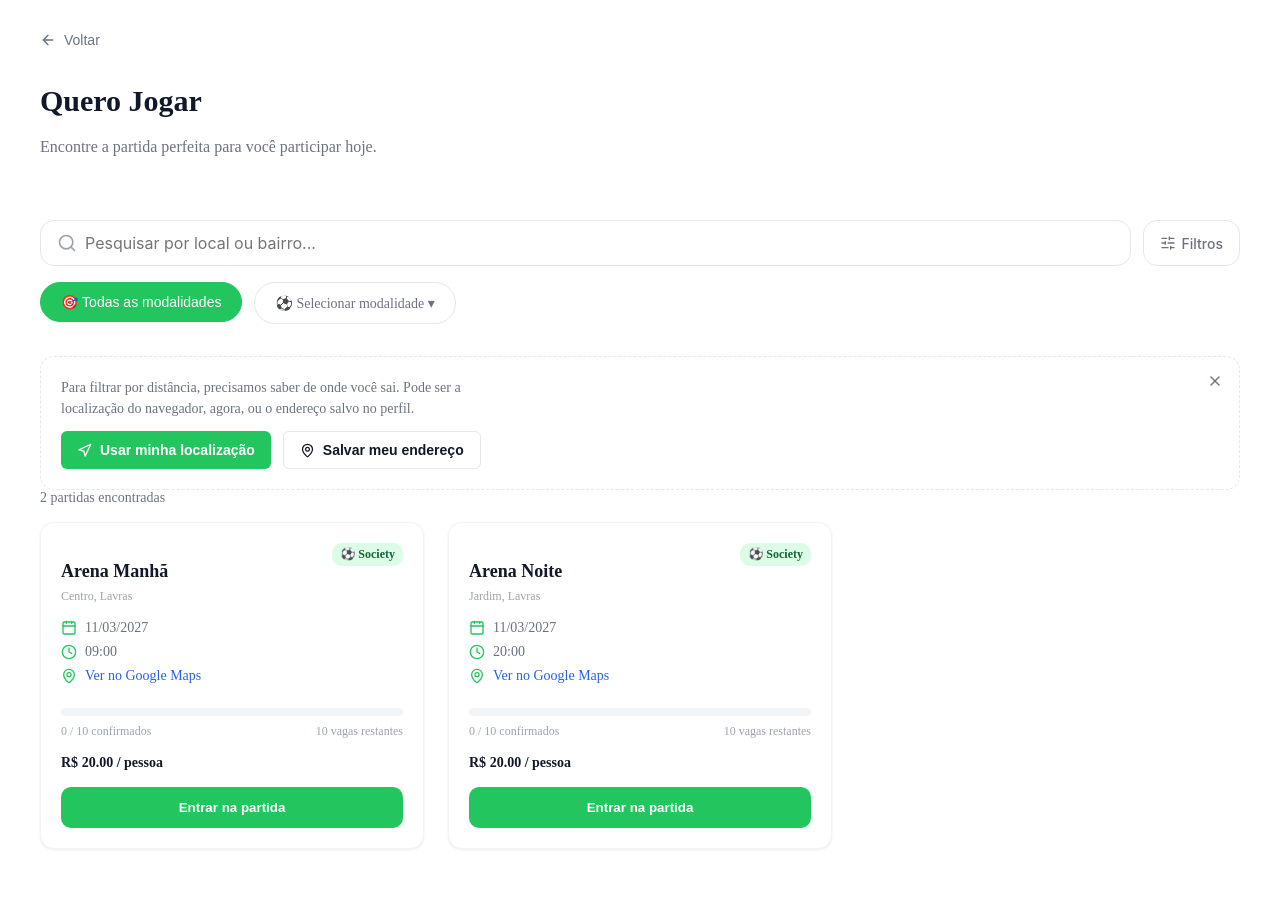
Test: QueroJogar — filtros aplicados sobre o que já veio › limpar filtros devolve a lista inteira
Click the button "Filtros". click: click(1191, 243)
box: [1143, 220, 1240, 266]
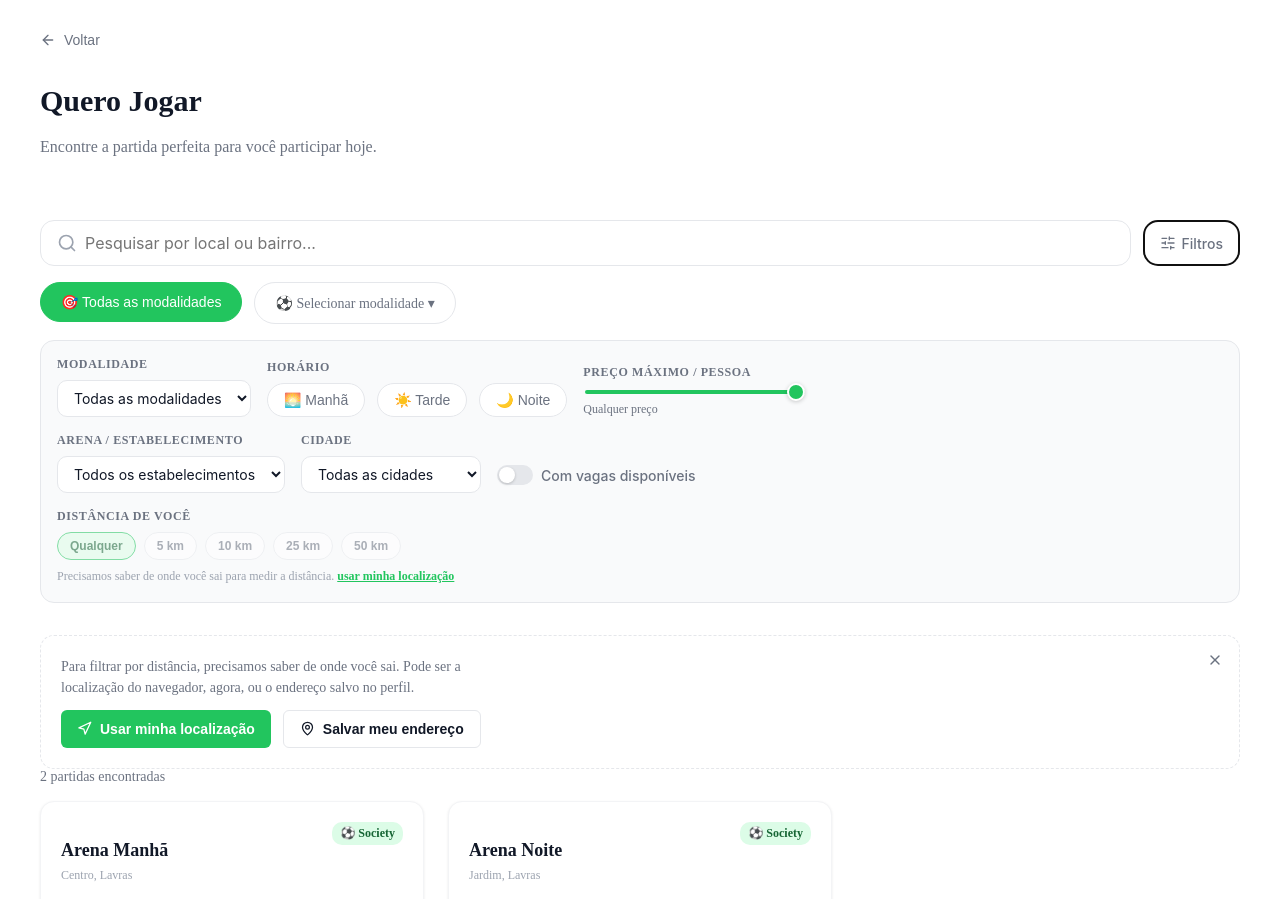
Click the button "🌙 Noite". click: click(523, 400)
box: [479, 383, 567, 417]
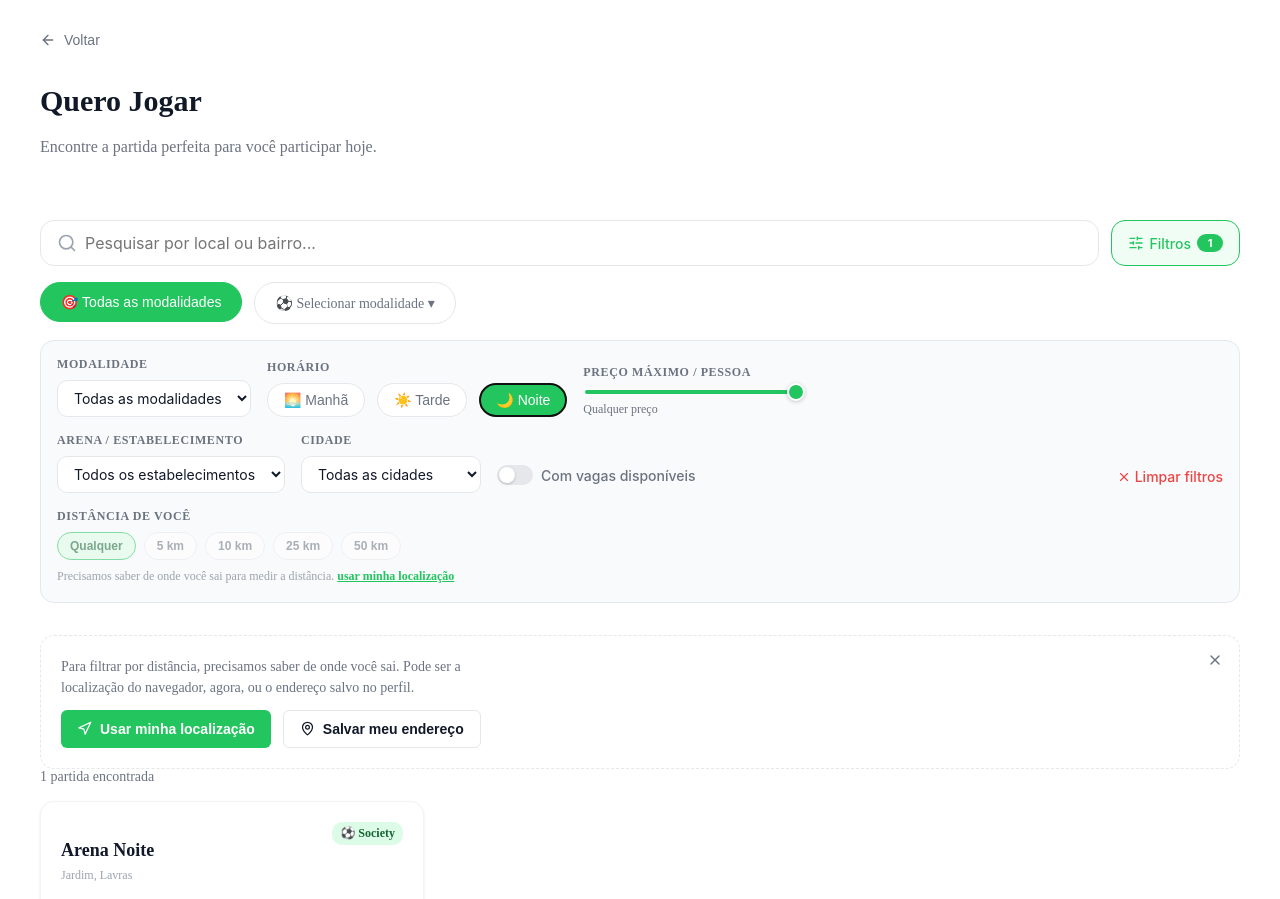
Expected: the text "1 partida encontrada" is shown, [40, 769, 154, 784]
Click the button "Limpar filtros". click: click(1170, 477)
box: [1117, 460, 1223, 493]
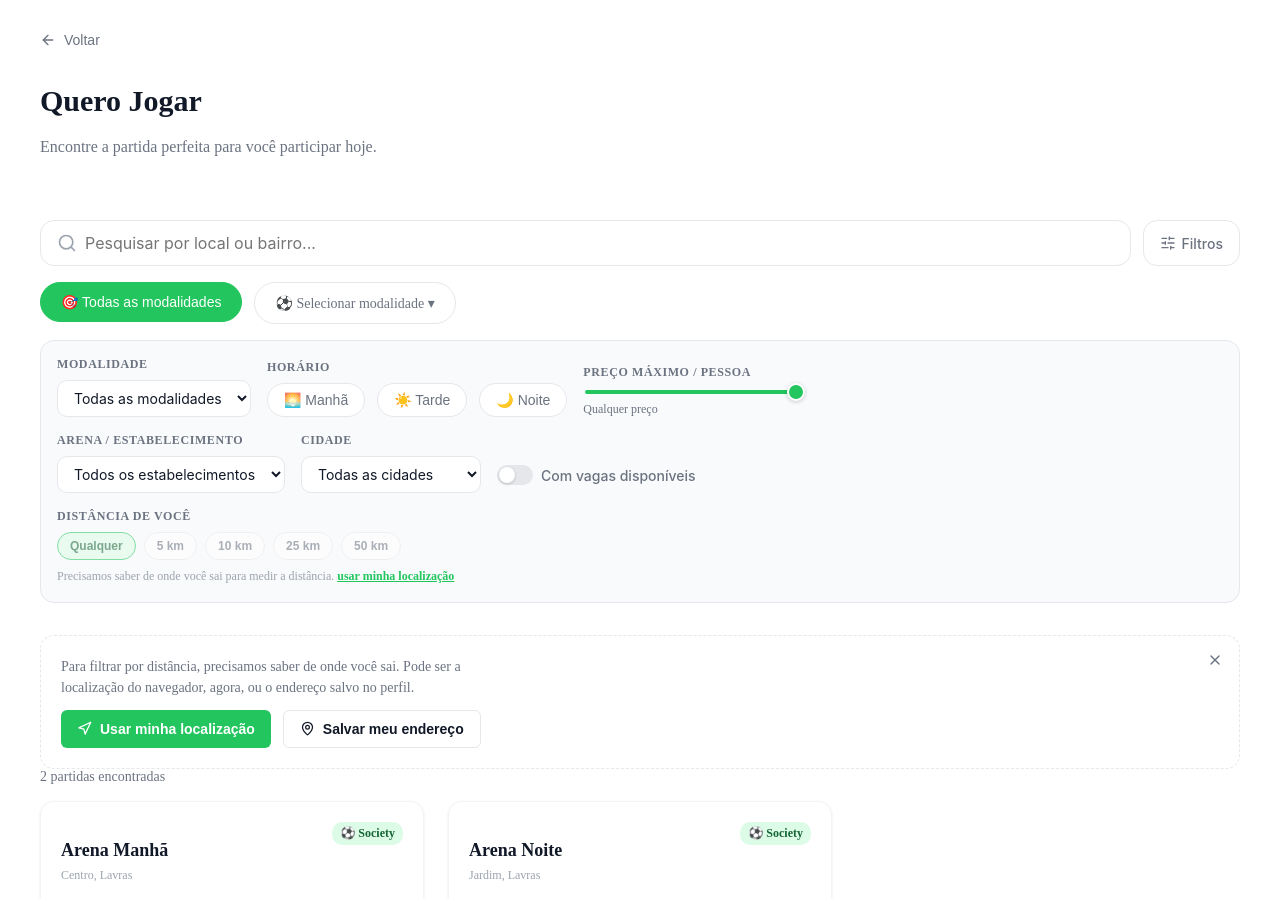
Expected: the text "2 partidas encontradas" is shown, [40, 769, 165, 784]
